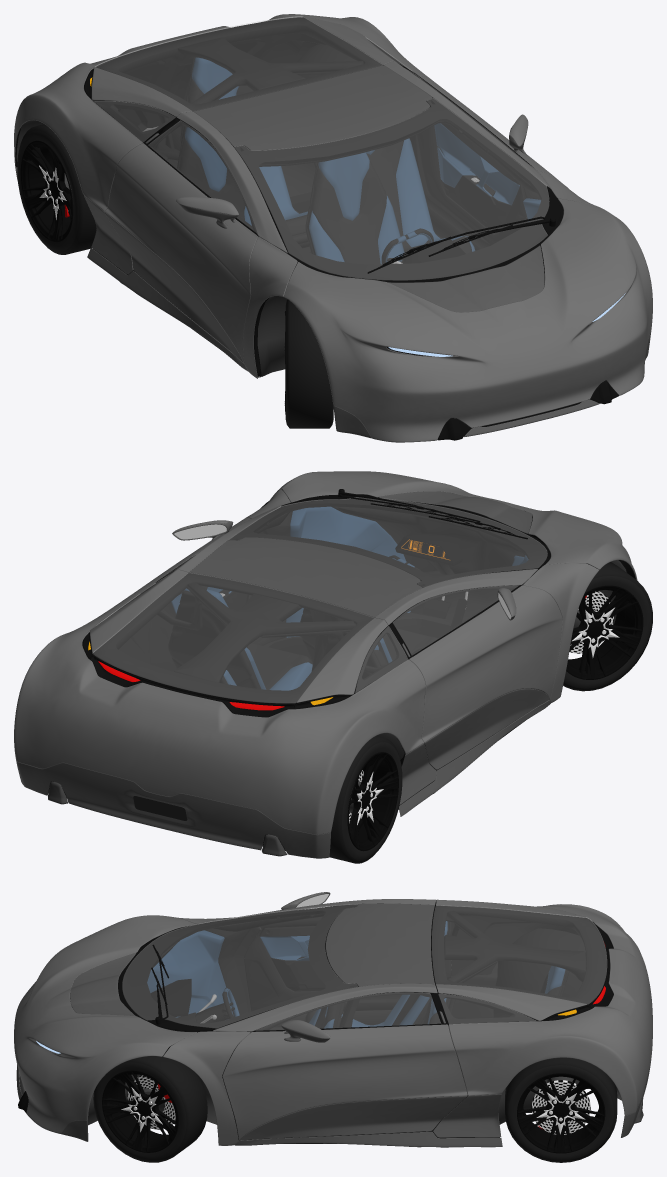
Rendered from demo-auto.glb.
The picture shows the model from 3 angles, top to bottom: view 1: azimuth 30°, elevation 25°; view 2: azimuth 150°, elevation 25°; view 3: azimuth 270°, elevation 25°; orthographic projection. The views are drawn at different scales.
Parts seen in each view (by area): view 1: BodyRearPanelsColor1, BodyWindshield, BodyWindshieldGasket, BodyRoofPanel, InteriorDashSides, InteriorDashMid, InteriorSeatsColor2, object 21, WheelFrontLRim, BodyUnderside, InteriorMid, InteriorSteeringDash; view 2: BodyRearPanelsColor1, BodyWindshield, BodyRoofPanel, BodyWindshieldGasket, InteriorDashMid, WheelFrontLRim, object 21, InteriorDashSides, InteriorSeatsColor2, InteriorFloormats, InteriorSteeringDash, BodyUnderside (+3 smaller); view 3: BodyRearPanelsColor1, BodyWindshield, BodyRoofPanel, BodyWindshieldGasket, object 21, WheelFrontLRim, InteriorDashMid, InteriorDashSides, InteriorMid, WheelFrontLBrakeDisc, BodyUnderside, InteriorSeatsColor2 (+1 smaller).
Part boxes in pixels (<box>): BodyRearPanelsColor1: <box>14,14,652,442</box>; BodyWindshield: <box>94,16,549,280</box>; BodyWindshieldGasket: <box>16,17,618,440</box>; BodyRoofPanel: <box>15,65,651,438</box>; InteriorDashSides: <box>185,57,540,349</box>; InteriorDashMid: <box>15,33,526,281</box>; InteriorSeatsColor2: <box>180,78,472,264</box>; object 21: <box>17,124,333,428</box>; WheelFrontLRim: <box>20,140,285,414</box>; BodyUnderside: <box>16,78,596,430</box>; InteriorMid: <box>93,173,557,376</box>; InteriorSteeringDash: <box>404,239,465,263</box>; BodyRearPanelsColor1: <box>14,471,637,834</box>; BodyWindshield: <box>92,497,547,703</box>; BodyRoofPanel: <box>16,491,550,858</box>; BodyWindshieldGasket: <box>82,489,635,753</box>; InteriorDashMid: <box>48,502,528,850</box>; WheelFrontLRim: <box>347,585,643,851</box>; object 21: <box>260,501,652,863</box>; InteriorDashSides: <box>171,506,528,690</box>; InteriorSeatsColor2: <box>246,628,437,689</box>; InteriorFloormats: <box>269,598,467,659</box>; InteriorSteeringDash: <box>395,533,462,566</box>; BodyUnderside: <box>48,560,626,856</box>; BodyRearPanelsColor1: <box>14,892,652,1145</box>; BodyWindshield: <box>122,904,606,1030</box>; BodyRoofPanel: <box>16,892,652,1147</box>; BodyWindshieldGasket: <box>18,901,613,1143</box>; object 21: <box>93,1054,617,1162</box>; WheelFrontLRim: <box>102,1070,605,1153</box>; InteriorDashMid: <box>118,908,613,1030</box>; InteriorDashSides: <box>147,921,565,1028</box>; InteriorMid: <box>205,921,499,1143</box>; WheelFrontLBrakeDisc: <box>127,1075,590,1134</box>; BodyUnderside: <box>39,927,643,1125</box>; InteriorSeatsColor2: <box>304,973,560,1028</box>.
Size of the model in its own units: 2.54 by 1.15 by 4.36.
Materials: 23 (2 with a texture image).
